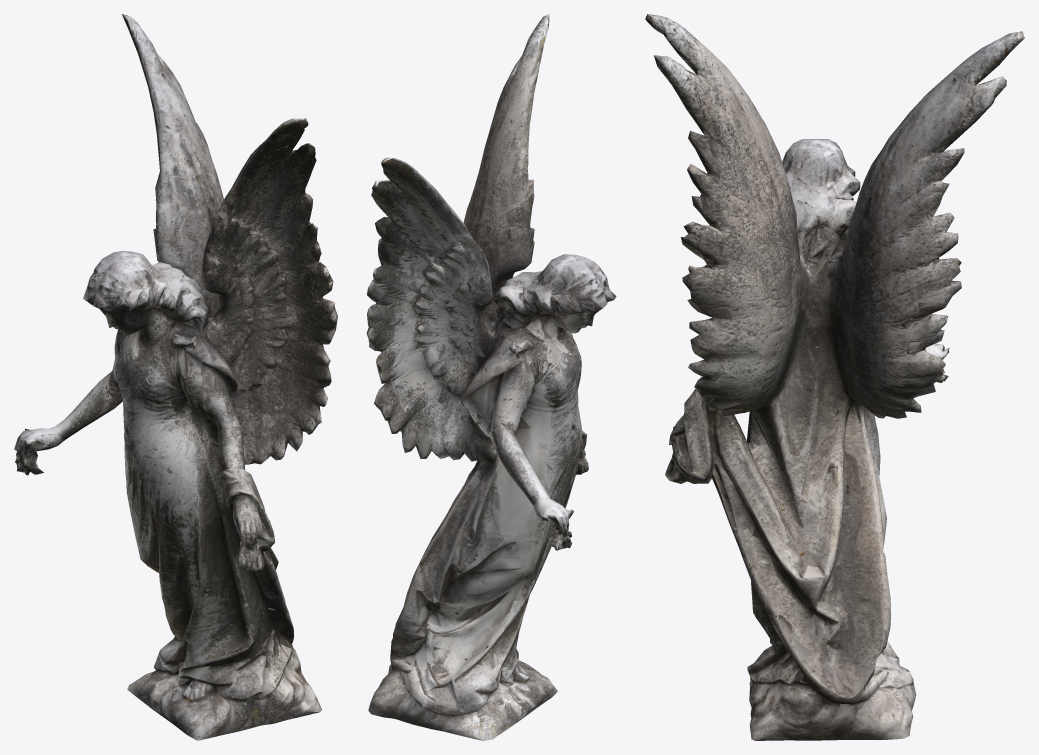
The model's file is engel_lod1.fbx.
3 views of the same model, side by side, from view 1: azimuth 30°, elevation 25°; view 2: azimuth 150°, elevation 25°; view 3: azimuth 270°, elevation 25° (orthographic). The views are drawn at different scales.
Parts seen in each view (by area): view 1: Engel-LOD1; view 2: Engel-LOD1; view 3: Engel-LOD1.
Part boxes in pixels (x1,y1,x2,y2): Engel-LOD1: (14,14,337,740); Engel-LOD1: (366,14,616,740); Engel-LOD1: (645,14,1024,740).
Bounding box in the file's own units: 166 × 447 × 222.
2 materials, 1 textured.
